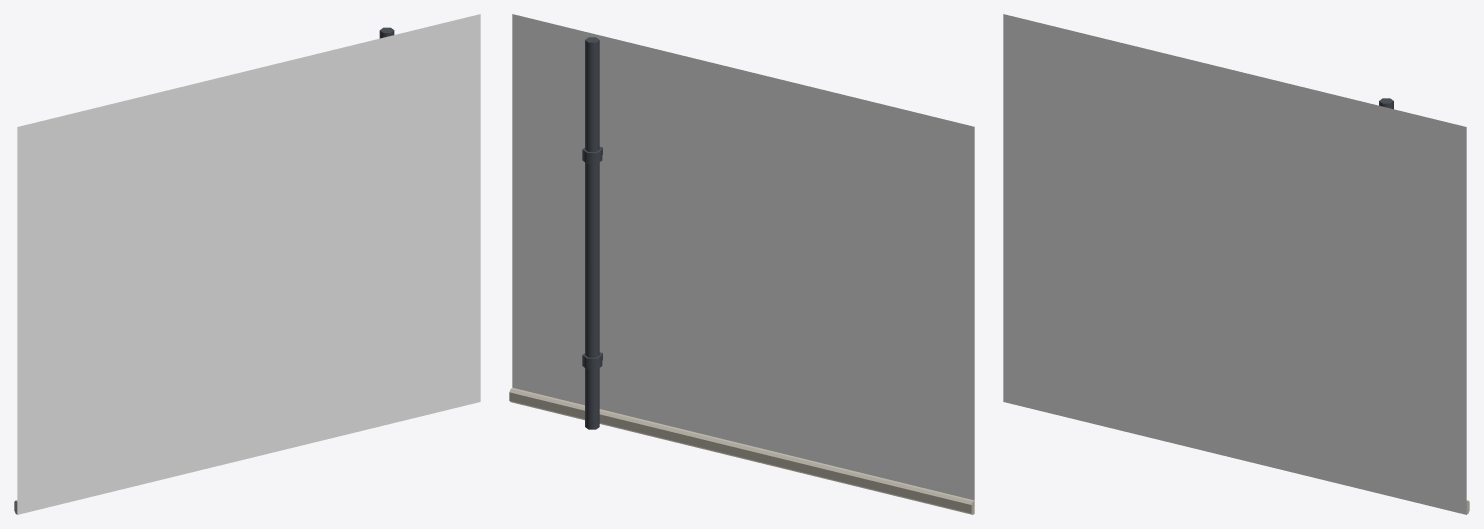
Rendered from apt_solid.glb.
The picture shows the model from 3 angles, left to right: view 1: azimuth 30°, elevation 25°; view 2: azimuth 150°, elevation 25°; view 3: azimuth 330°, elevation 25°; orthographic projection.
Parts seen in each view (by area): view 1: apt_solid__mesh; view 2: apt_solid__mesh; view 3: apt_solid__mesh.
Part boxes in pixels (box(x1,y1,x2,y2)): apt_solid__mesh: box(14, 14, 480, 514); apt_solid__mesh: box(509, 14, 974, 514); apt_solid__mesh: box(1003, 14, 1469, 514).
Size of what is drawn, in the model's own units: 4 by 3.2 by 0.175.
1 material, 1 textured.
